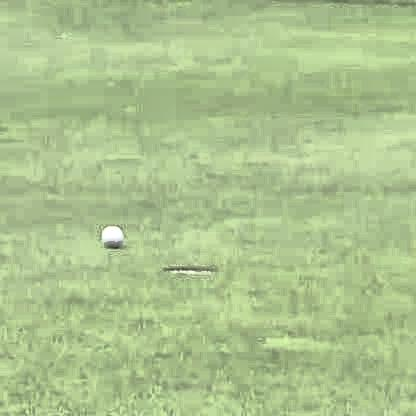golfball: (97, 222, 120, 247)
